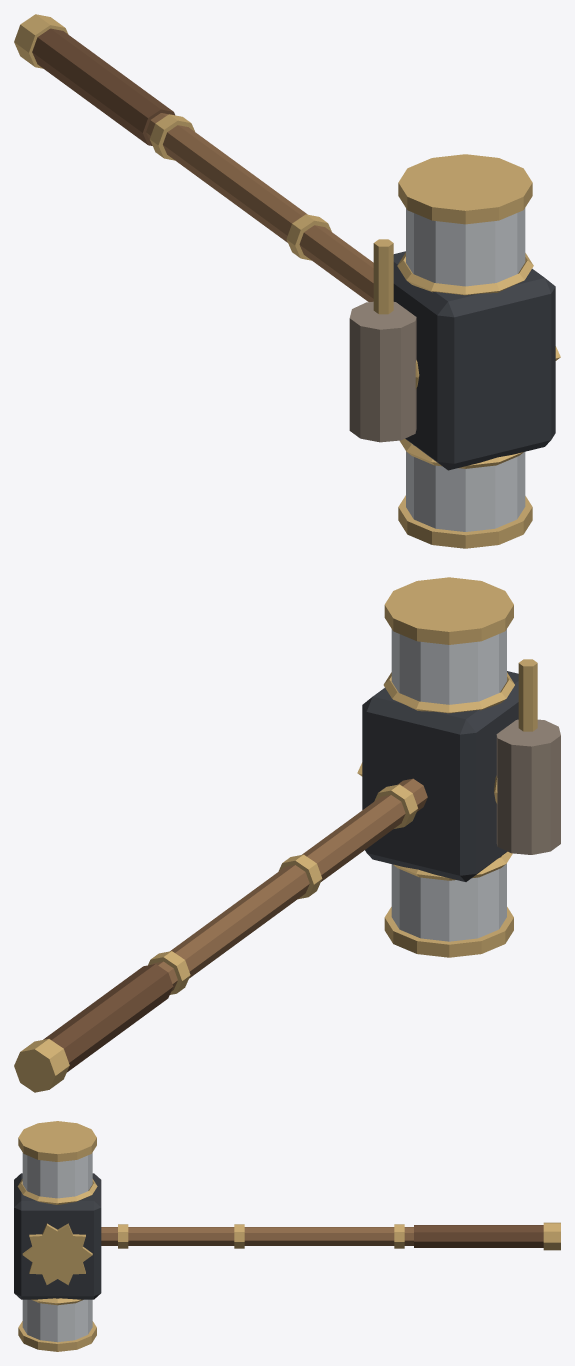
File: Marteau_Piston.fbx
3 renders of one model, top to bottom at view 1: azimuth 30°, elevation 25°; view 2: azimuth 150°, elevation 25°; view 3: azimuth 270°, elevation 25°, orthographic. The views are drawn at different scales.
Parts seen in each view (by area): view 1: Marteau_Piston_Metal, Marteau_Piston_Laiton, Marteau_Piston_Acier, Marteau_Piston_Fer, Marteau_Piston_Bois, Marteau_Piston_Cuir; view 2: Marteau_Piston_Metal, Marteau_Piston_Laiton, Marteau_Piston_Acier, Marteau_Piston_Bois, Marteau_Piston_Fer, Marteau_Piston_Cuir; view 3: Marteau_Piston_Laiton, Marteau_Piston_Metal, Marteau_Piston_Bois, Marteau_Piston_Acier, Marteau_Piston_Cuir.
Boxes of the visible parts, box(x1,y1,x2,y2) form: Marteau_Piston_Metal: box(393, 251, 555, 470); Marteau_Piston_Laiton: box(14, 14, 560, 548); Marteau_Piston_Acier: box(406, 208, 525, 531); Marteau_Piston_Fer: box(349, 301, 416, 442); Marteau_Piston_Bois: box(146, 113, 373, 301); Marteau_Piston_Cuir: box(32, 28, 174, 145); Marteau_Piston_Metal: box(362, 671, 518, 881); Marteau_Piston_Laiton: box(14, 577, 537, 1092); Marteau_Piston_Acier: box(391, 629, 506, 941); Marteau_Piston_Bois: box(152, 778, 427, 991); Marteau_Piston_Fer: box(496, 719, 560, 854); Marteau_Piston_Cuir: box(43, 964, 173, 1072); Marteau_Piston_Laiton: box(17, 1121, 560, 1351); Marteau_Piston_Metal: box(14, 1173, 101, 1299); Marteau_Piston_Bois: box(101, 1227, 413, 1245); Marteau_Piston_Acier: box(22, 1153, 92, 1342); Marteau_Piston_Cuir: box(414, 1225, 543, 1247).
Size of the model in its own units: 81.81 by 150 by 376.
